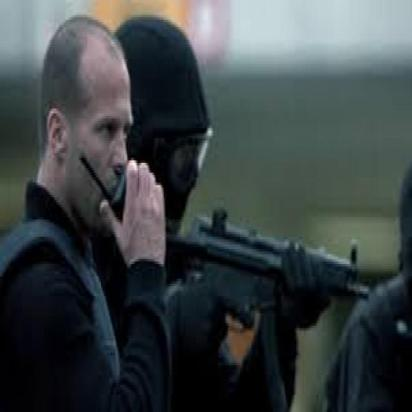Gun: (168, 208, 377, 412)
